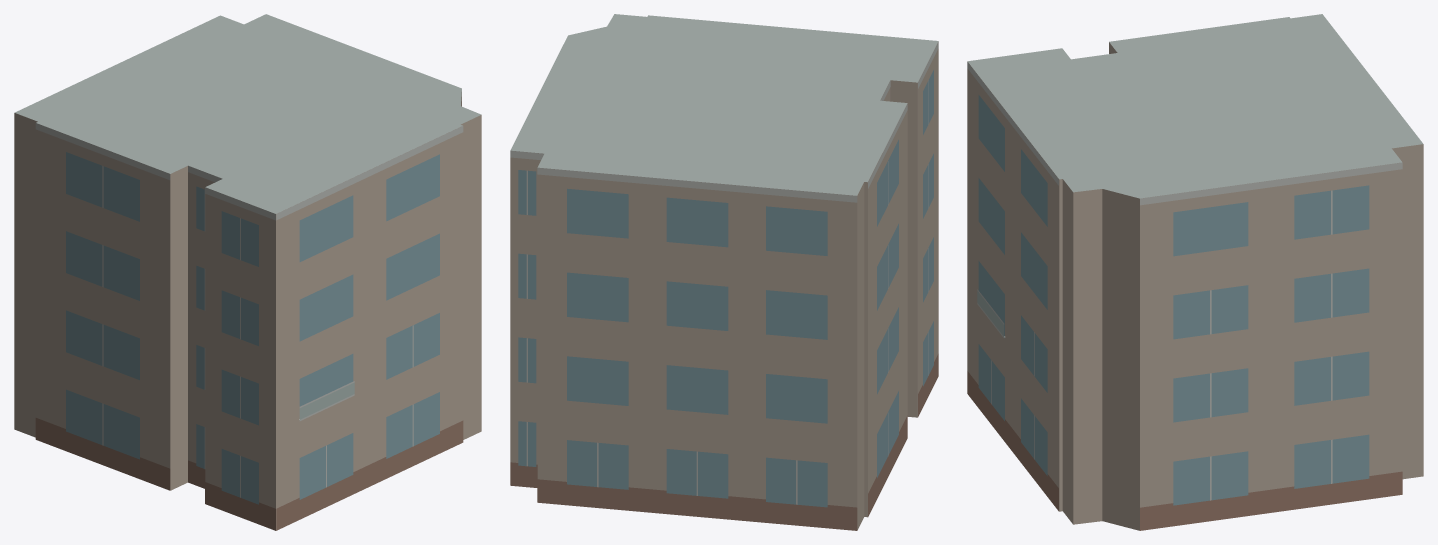
The model's file is survey-upis-32649852.glb.
3 views of the same model, side by side, from view 1: azimuth 30°, elevation 25°; view 2: azimuth 150°, elevation 25°; view 3: azimuth 270°, elevation 25° (orthographic). The views are drawn at different scales.
Visible parts, largest first — view 1: survey-upis-32649852.tmp; view 2: survey-upis-32649852.tmp; view 3: survey-upis-32649852.tmp.
Part boxes in pixels (x1=…): survey-upis-32649852.tmp: x1=14, y1=14, x2=481, y2=530; survey-upis-32649852.tmp: x1=510, y1=14, x2=938, y2=530; survey-upis-32649852.tmp: x1=967, y1=14, x2=1423, y2=530.
Size of the model in its own units: 14.12 by 11.85 by 14.76.
